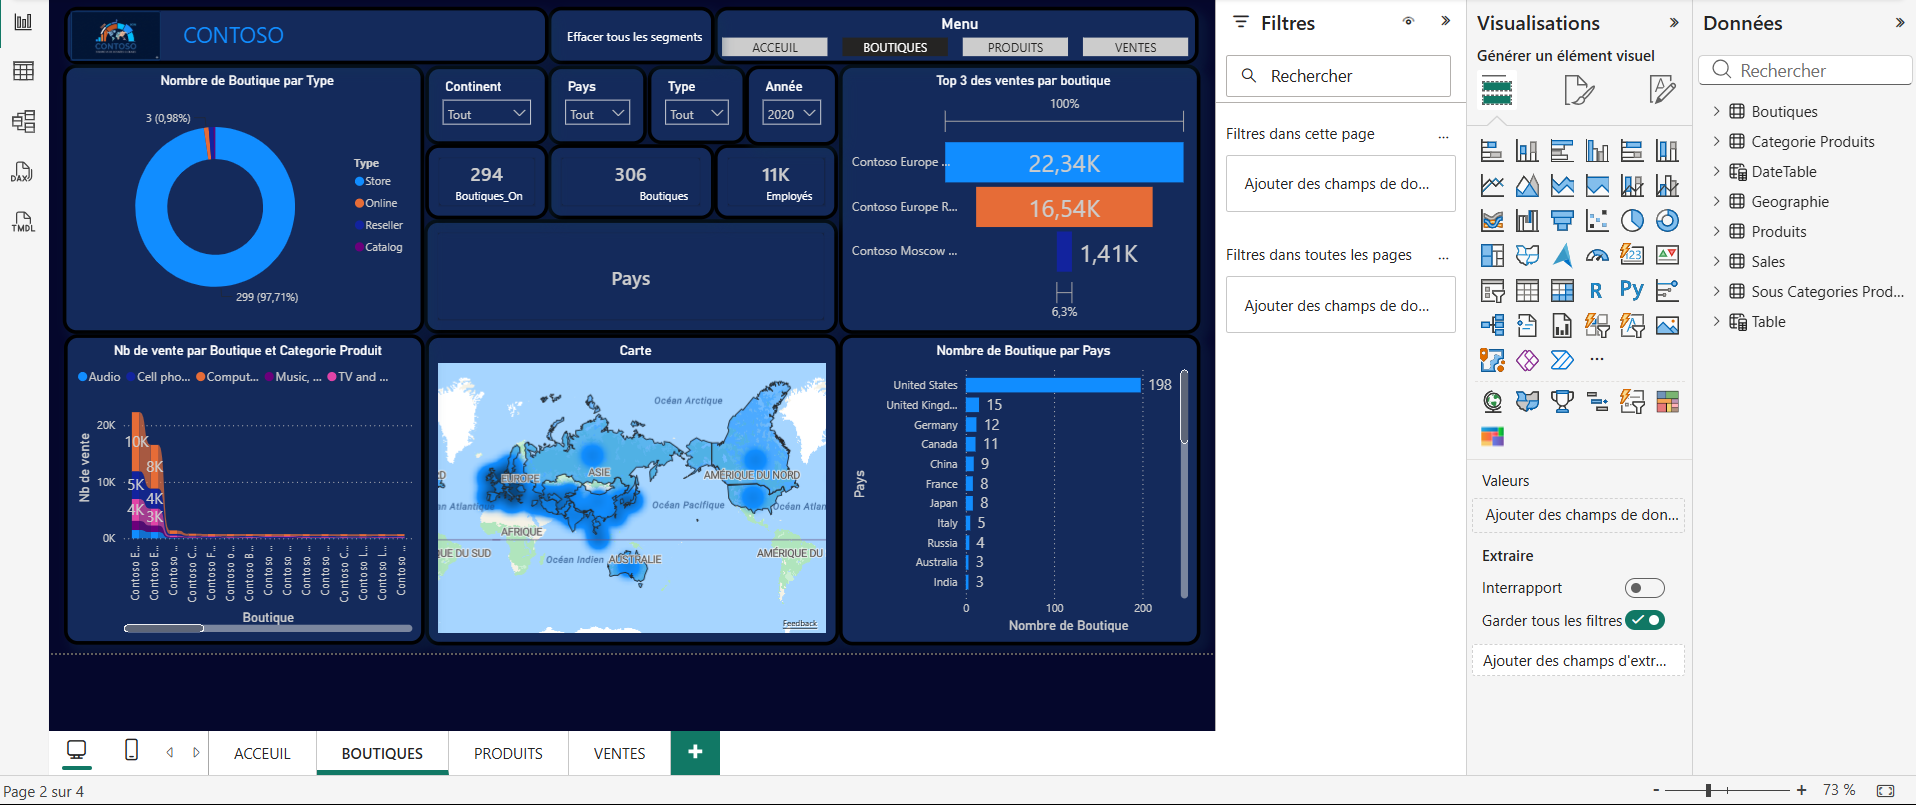

What the dashboard file says about the page in this screenshot:
{"tool":"powerbi","page":{"name":"BOUTIQUES","canvas":[1280,720],"ordinal":1},"visuals":[{"type":"slicer","title":"Pays","fields":{"Values":["Geographie.Pays"]},"box":[548,74,109,87],"z":0},{"type":"slicer","title":"Continents","fields":{"Values":["Geographie.Continent"]},"box":[413,74,135,87],"z":1000},{"type":"cardVisual","title":" ","fields":{"Data":["Table.pays selectionné"]},"box":[411.4,243.2,454.2,125.5],"z":2000},{"type":"azureMap","title":"Carte","fields":{"Category":["Geographie.Pays"]},"box":[412.4,368.6,454.2,341.4],"z":3000},{"type":"slicer","title":"Type de boutique","fields":{"Values":["Boutiques.Type"]},"box":[656.7,74.4,107.8,86.7],"z":4000},{"type":"funnel","title":"Top 3 des ventes par boutique","fields":{"Category":["Boutiques.Boutique"],"Y":["Table.Nb de vente"]},"box":[866.6,72.9,396.8,295.7],"z":5000},{"type":"cardVisual","title":"Nb Boutiques","fields":{"Data":["Table.Nb boutiques"]},"box":[547.6,160.5,182.9,82.7],"z":6000},{"type":"cardVisual","title":"Nb Boutiques","fields":{"Data":["Sum(Boutiques.Employee)"]},"box":[730.5,160.5,136.2,82.7],"z":7000},{"type":"pageNavigator","title":"Menu","box":[730.5,9.7,532,63.2],"z":8000},{"type":"actionButton","box":[547.6,9.7,182.9,63.2],"z":9000},{"type":"barChart","fields":{"Category":["Geographie.Pays"],"Y":["CountNonNull(Boutiques.Boutique)"]},"box":[866.6,368.6,396.8,341.4],"z":10000},{"type":"donutChart","fields":{"Category":["Boutiques.Type"],"Y":["Boutiques.Boutique"]},"box":[15.6,72.9,396.8,295.7],"z":11000},{"type":"ribbonChart","fields":{"Y":["Table.Nb de vente"],"Category":["Boutiques.Boutique"],"Series":["Categorie Produits.Categorie Produit"]},"box":[16,369,396,341],"z":12000},{"type":"textbox","box":[16,10,532,63],"z":13000},{"type":"image","box":[23.3,12.2,98.9,57.8],"z":14000},{"type":"cardVisual","fields":{"Data":["Table.Boutiques_On"]},"box":[413,161,135,82],"z":15000},{"type":"slicer","fields":{"Values":["DateTable.Année"]},"box":[764.4,74.4,102.2,87.8],"z":16000}]}

Visuals, with their boxes on the page's 1280x720 design canvas (x1, y1, x2, y2). These are canvas units, not pixel positions in the 1916x805 screenshot, which may show the page scaled, cropped or inside an application window:
"Pays" slicer: [548, 74, 657, 161]
"Continents" slicer: [413, 74, 548, 161]
" " cardVisual: [411, 243, 866, 369]
"Carte" azureMap: [412, 369, 867, 710]
"Type de boutique" slicer: [657, 74, 764, 161]
"Top 3 des ventes par boutique" funnel: [867, 73, 1263, 369]
"Nb Boutiques" cardVisual: [548, 160, 730, 243]
"Nb Boutiques" cardVisual: [730, 160, 867, 243]
"Menu" pageNavigator: [730, 10, 1262, 73]
actionButton: [548, 10, 730, 73]
barChart - Geographie.Pays x CountNonNull(Boutiques.Boutique): [867, 369, 1263, 710]
donutChart - Boutiques.Type x Boutiques.Boutique: [16, 73, 412, 369]
ribbonChart - Table.Nb de vente x Boutiques.Boutique: [16, 369, 412, 710]
textbox: [16, 10, 548, 73]
image: [23, 12, 122, 70]
cardVisual - Table.Boutiques_On: [413, 161, 548, 243]
slicer - DateTable.Année: [764, 74, 867, 162]
